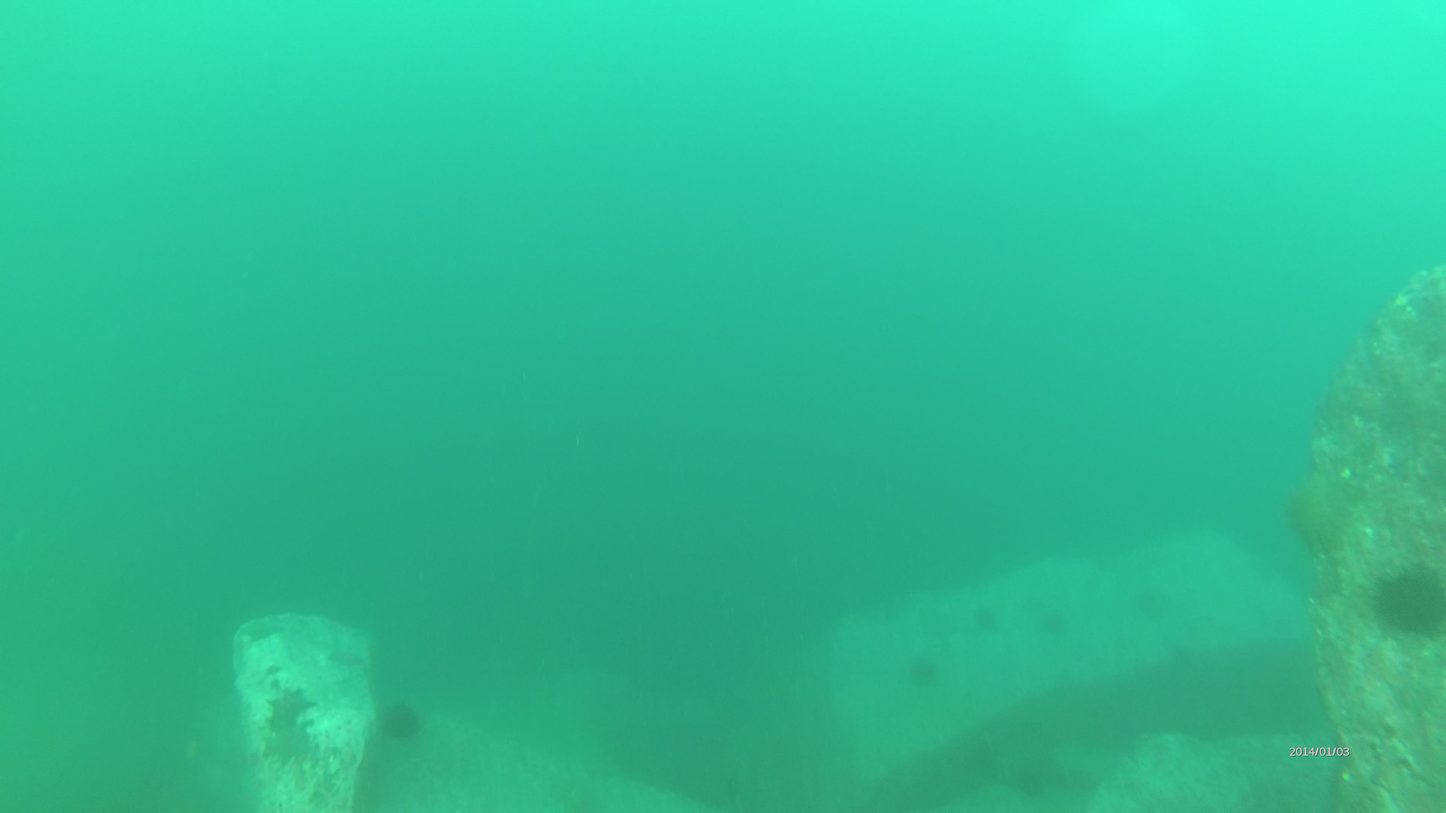starfish: (1368, 560, 1446, 647), (378, 697, 424, 751)
